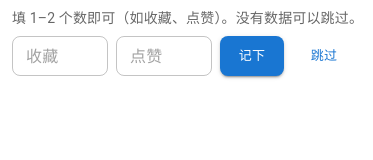
RetroFillForm › allows skipping as「拿不到数据」without fabricating a snapshot
Click the button "跳过".
click(324, 56)  # box [292,36,356,76]
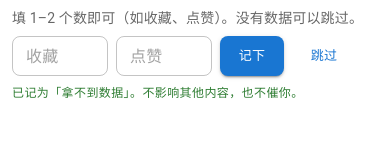
Now the text "已记为「拿不到数据」。不影响其他内容，也不催你。" is shown, box [12,86,304,100]
